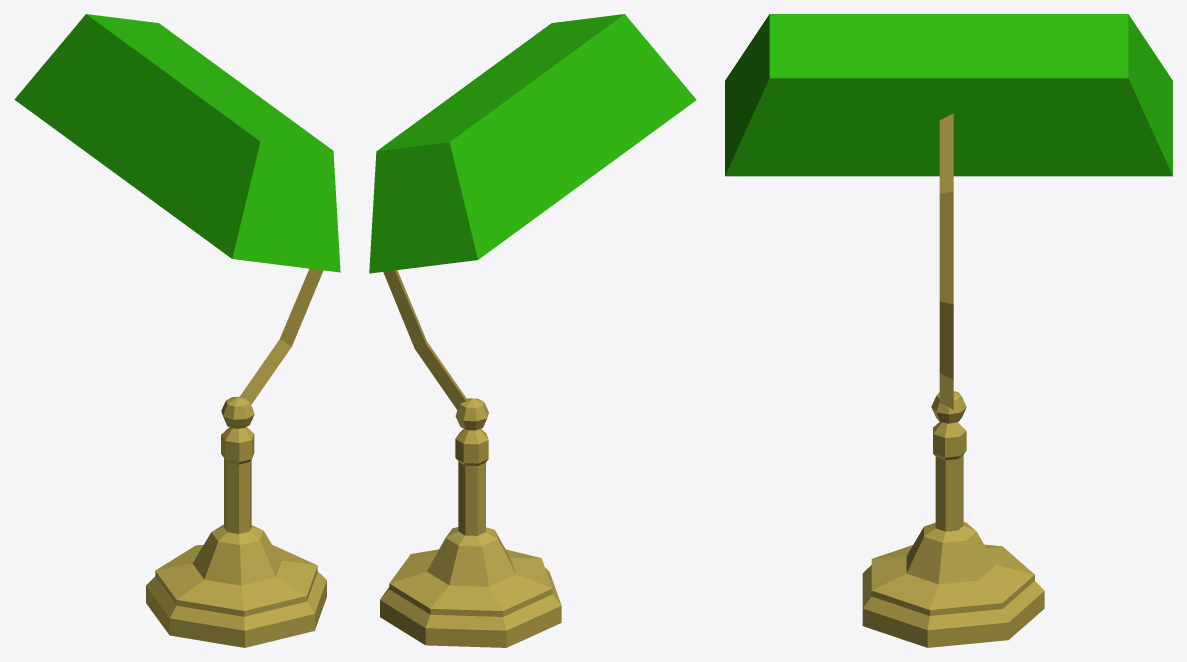
Rendered from lamp_1.glb.
3 views of the same model, side by side, from view 1: azimuth 30°, elevation 25°; view 2: azimuth 150°, elevation 25°; view 3: azimuth 270°, elevation 25° (orthographic). The views are drawn at different scales.
Visible parts, largest first — view 1: Cube; view 2: Cube; view 3: Cube.
Boxes of the visible parts, left/top/right/bottom form: Cube: left=14, top=14, right=340, bottom=647; Cube: left=369, top=14, right=696, bottom=647; Cube: left=725, top=14, right=1172, bottom=647.
Size of the model in its own units: 0.3293 by 0.8097 by 0.5846.
